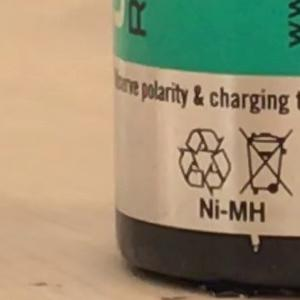keyword: (190, 191, 275, 229)
